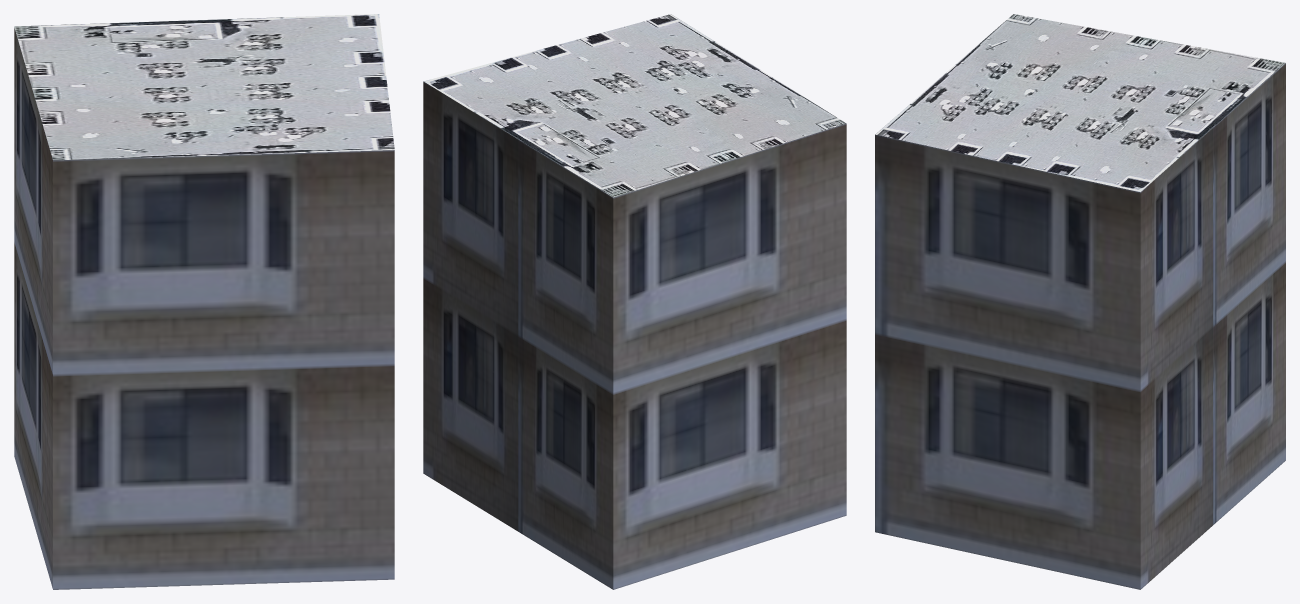
Rendered from ResTex__1009.fbx.
3 renders of one model, left to right at view 1: azimuth 30°, elevation 25°; view 2: azimuth 150°, elevation 25°; view 3: azimuth 270°, elevation 25°, orthographic. The views are drawn at different scales.
Parts seen in each view (by area): view 1: CityEngineMaterial_3_m, CityEngineMaterial_4_m; view 2: CityEngineMaterial_3_m, CityEngineMaterial_4_m; view 3: CityEngineMaterial_3_m, CityEngineMaterial_4_m.
Boxes of the visible parts, x1=… form: CityEngineMaterial_3_m: x1=14, y1=28, x2=394, y2=589; CityEngineMaterial_4_m: x1=14, y1=14, x2=394, y2=160; CityEngineMaterial_3_m: x1=423, y1=81, x2=846, y2=589; CityEngineMaterial_4_m: x1=424, y1=14, x2=845, y2=197; CityEngineMaterial_3_m: x1=875, y1=63, x2=1285, y2=589; CityEngineMaterial_4_m: x1=875, y1=14, x2=1285, y2=192.
Size of the model in its own units: 5.77 by 6 by 5.62.
2 materials, 2 textured.
